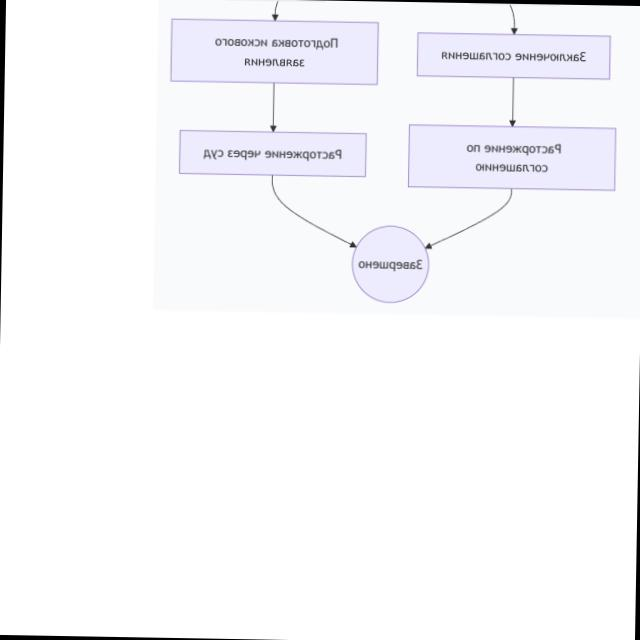arrow: (268, 174, 358, 248), (424, 187, 514, 251), (507, 77, 518, 127), (268, 83, 279, 132)
circle: (350, 223, 430, 304)
rectangle: (170, 20, 377, 84), (408, 126, 614, 190), (416, 33, 609, 79), (178, 130, 365, 177)
